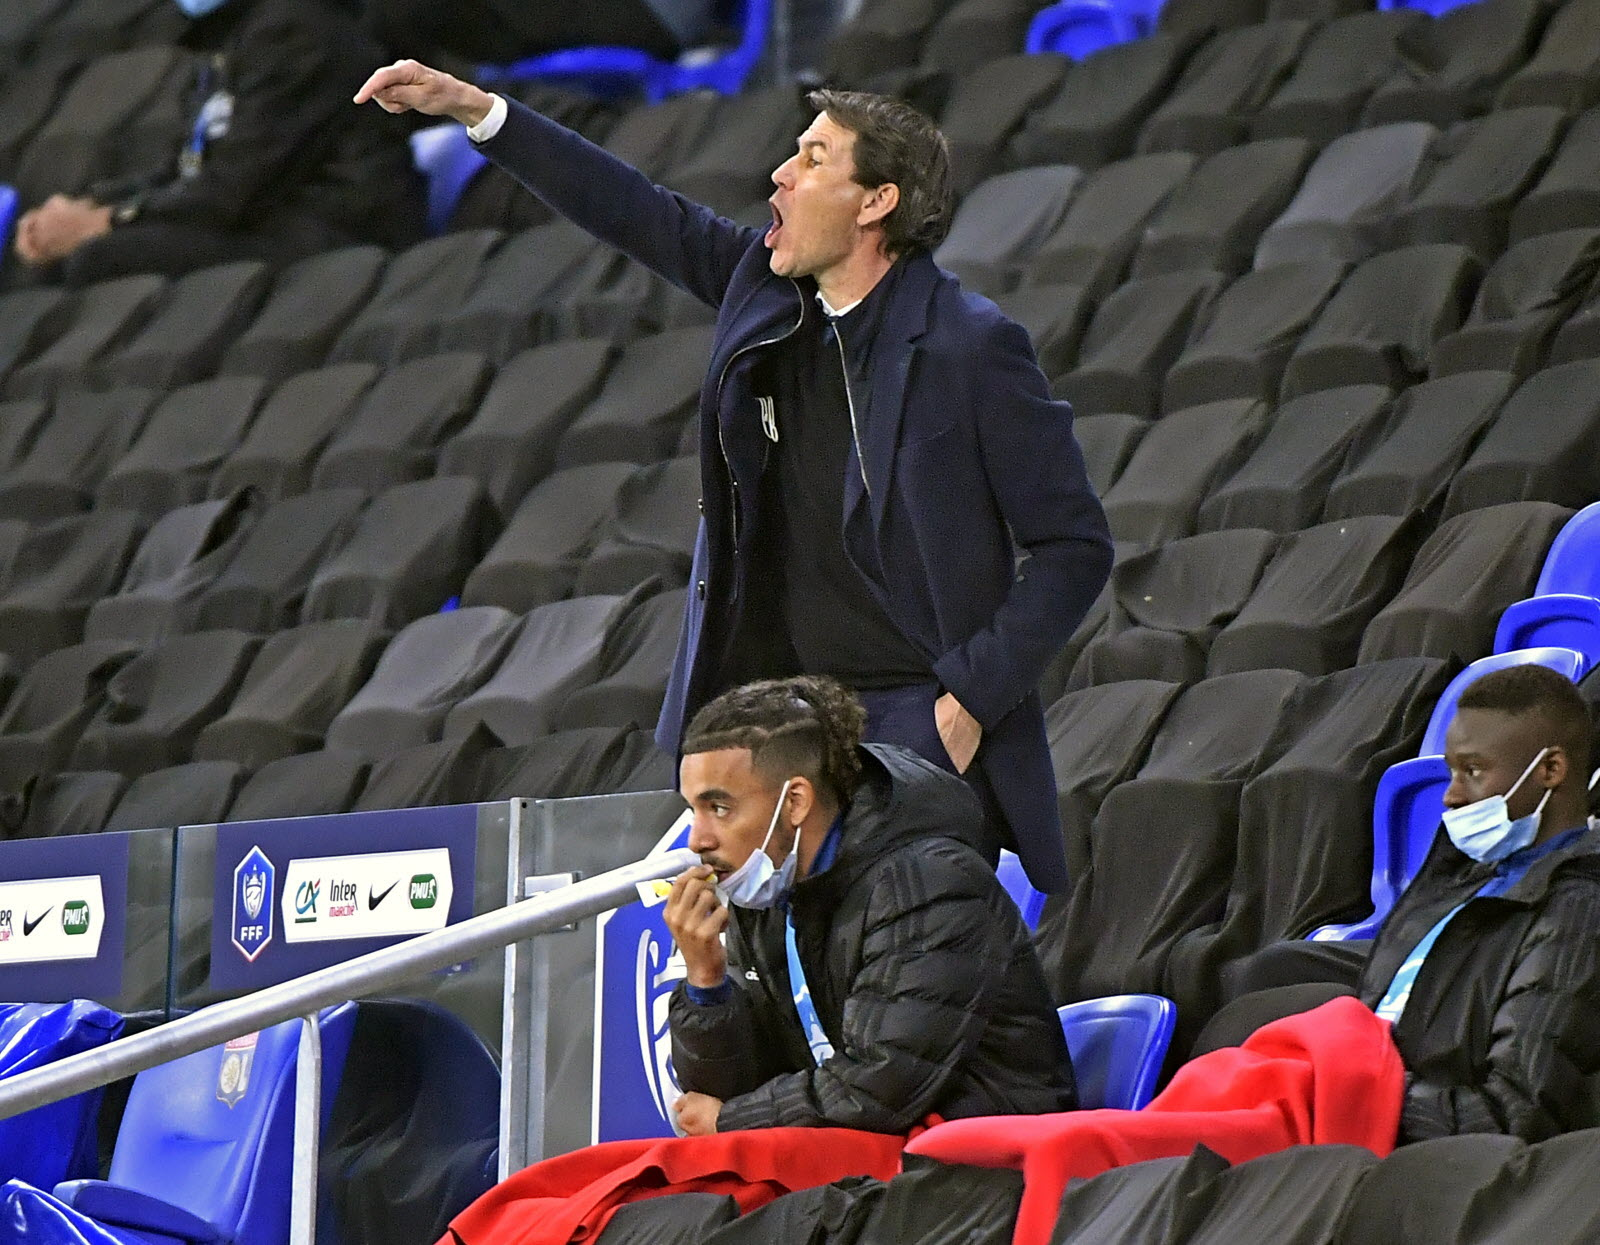with_incorrect_mask: (682, 727, 819, 902), (1441, 707, 1572, 865)
without_mask: (747, 107, 901, 285)
